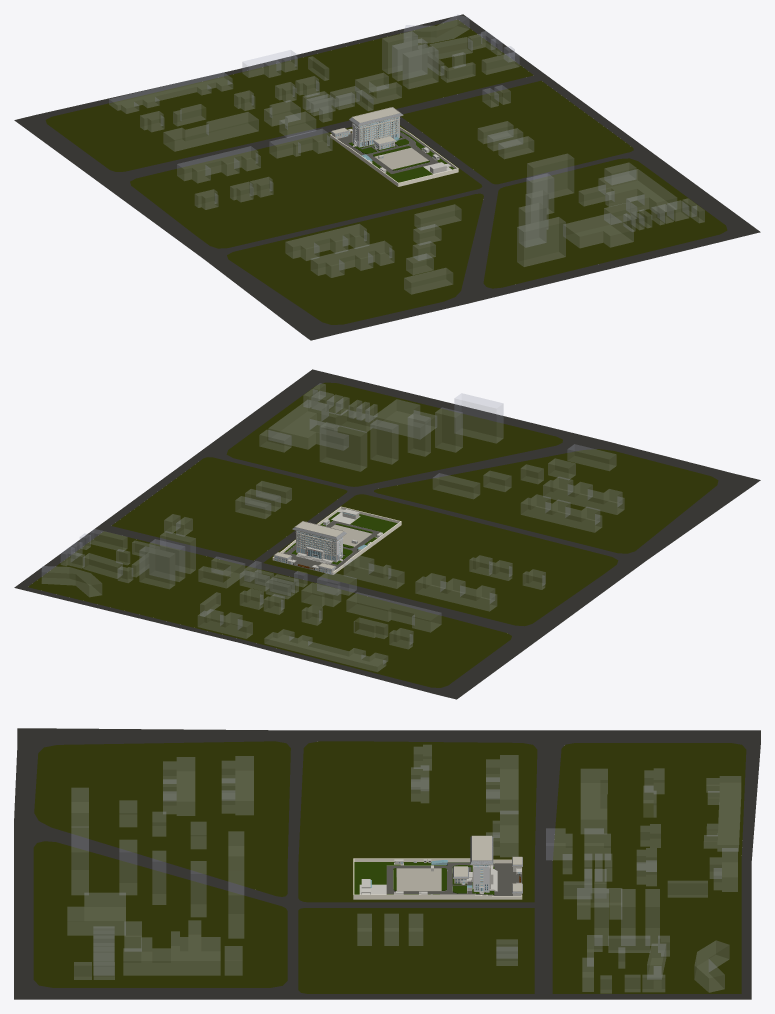
File: groundFloorOfficeBuilding.glb
3 views of the same model, one above another, from view 1: azimuth 30°, elevation 25°; view 2: azimuth 150°, elevation 25°; view 3: azimuth 270°, elevation 25° (orthographic). The views are drawn at different scales.
Visible parts, largest first — view 1: Cube.081, Cube.702, Cube.704, Cube.705, Cube.700, Cube.698, Cube.686, Cube.694, Cube.706, Cube.681, Cube.707, Cube.697 (+13 smaller); view 2: Cube.081, Cube.704, Cube.702, Cube.705, Cube.700, Cube.698, Cube.686, Cube.694, Cube.681, Cube.707, Cube.706, Cube.697 (+12 smaller); view 3: Cube.081, Cube.702, Cube.704, Cube.700, Cube.705, Cube.698, Cube.694, Cube.697, Cube.681, Cube.706, Cube.707, Cube.686 (+17 smaller).
Boxes of the visible parts, x1,y1,x2,y2 form: Cube.081: [14, 14, 760, 340]; Cube.702: [563, 163, 704, 247]; Cube.704: [517, 154, 573, 266]; Cube.705: [404, 204, 461, 294]; Cube.700: [418, 31, 519, 82]; Cube.698: [382, 31, 438, 88]; Cube.686: [163, 112, 258, 151]; Cube.694: [109, 72, 232, 113]; Cube.706: [285, 224, 369, 260]; Cube.681: [177, 146, 260, 182]; Cube.707: [311, 241, 394, 277]; Cube.697: [303, 56, 373, 122]; Cube.081: [14, 369, 760, 699]; Cube.704: [320, 393, 503, 471]; Cube.702: [259, 383, 436, 452]; Cube.705: [433, 444, 616, 498]; Cube.700: [61, 529, 159, 582]; Cube.698: [139, 531, 195, 588]; Cube.686: [346, 592, 441, 632]; Cube.694: [264, 629, 387, 671]; Cube.681: [415, 573, 496, 611]; Cube.707: [543, 477, 624, 514]; Cube.706: [521, 494, 601, 532]; Cube.697: [200, 561, 307, 616]; Cube.081: [14, 728, 760, 999]; Cube.702: [67, 893, 242, 979]; Cube.704: [71, 827, 243, 938]; Cube.700: [582, 935, 669, 993]; Cube.705: [71, 788, 243, 870]; Cube.698: [594, 889, 659, 945]; Cube.694: [704, 776, 740, 851]; Cube.697: [563, 854, 707, 898]; Cube.681: [486, 755, 518, 813]; Cube.706: [221, 756, 253, 814]; Cube.707: [163, 757, 194, 815]; Cube.686: [581, 769, 607, 833].
Bounding box in the file's own units: 71.38 × 5.59 × 83.07.
36 materials, 1 textured.
